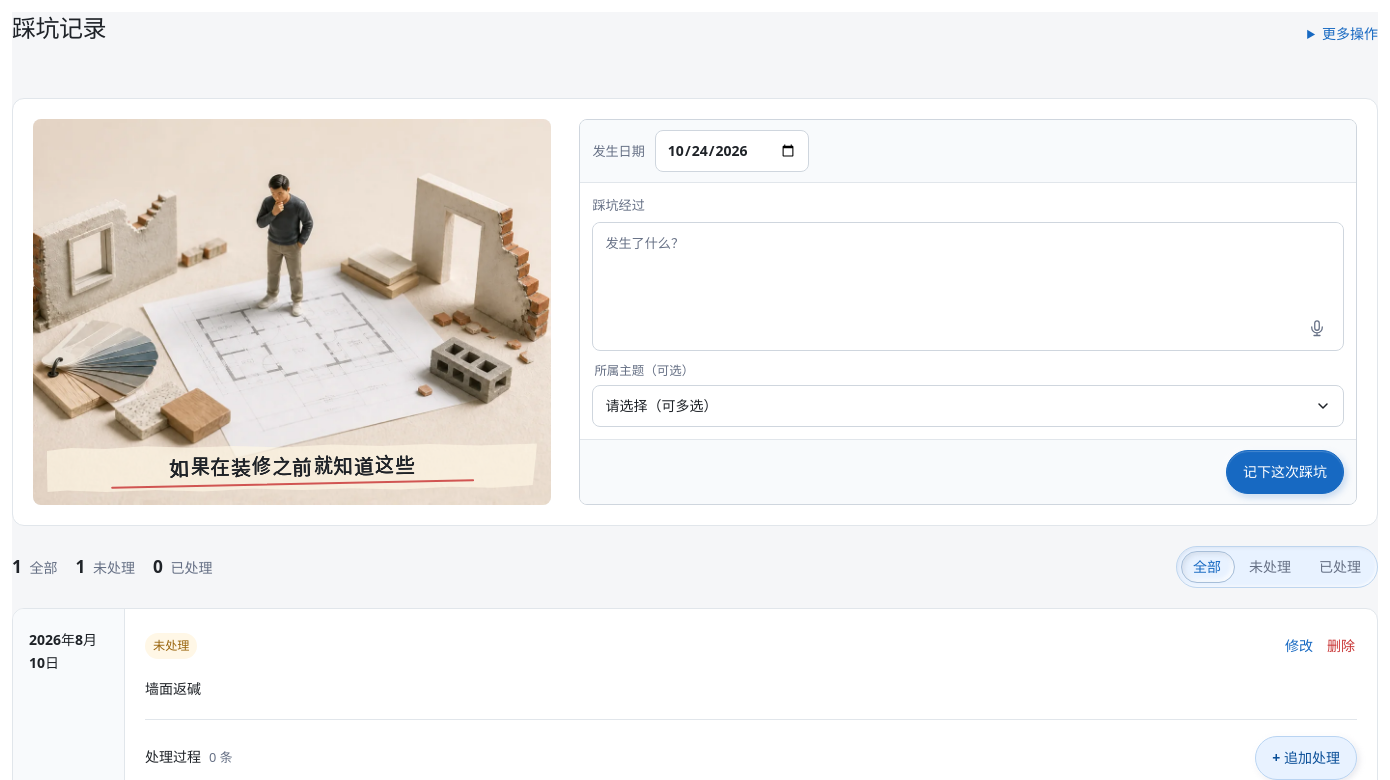
Scenario: PitfallsView › 将必填提示与提交按钮放在同一操作栏
The width and height of the screenshot is (1390, 780).
Expected: the text "墙面返碱" is shown, x1=145 y1=679 x2=201 y2=698
Step 1. Click the button "记下这次踩坑" → (1285, 472), box x1=1226 y1=450 x2=1344 y2=494
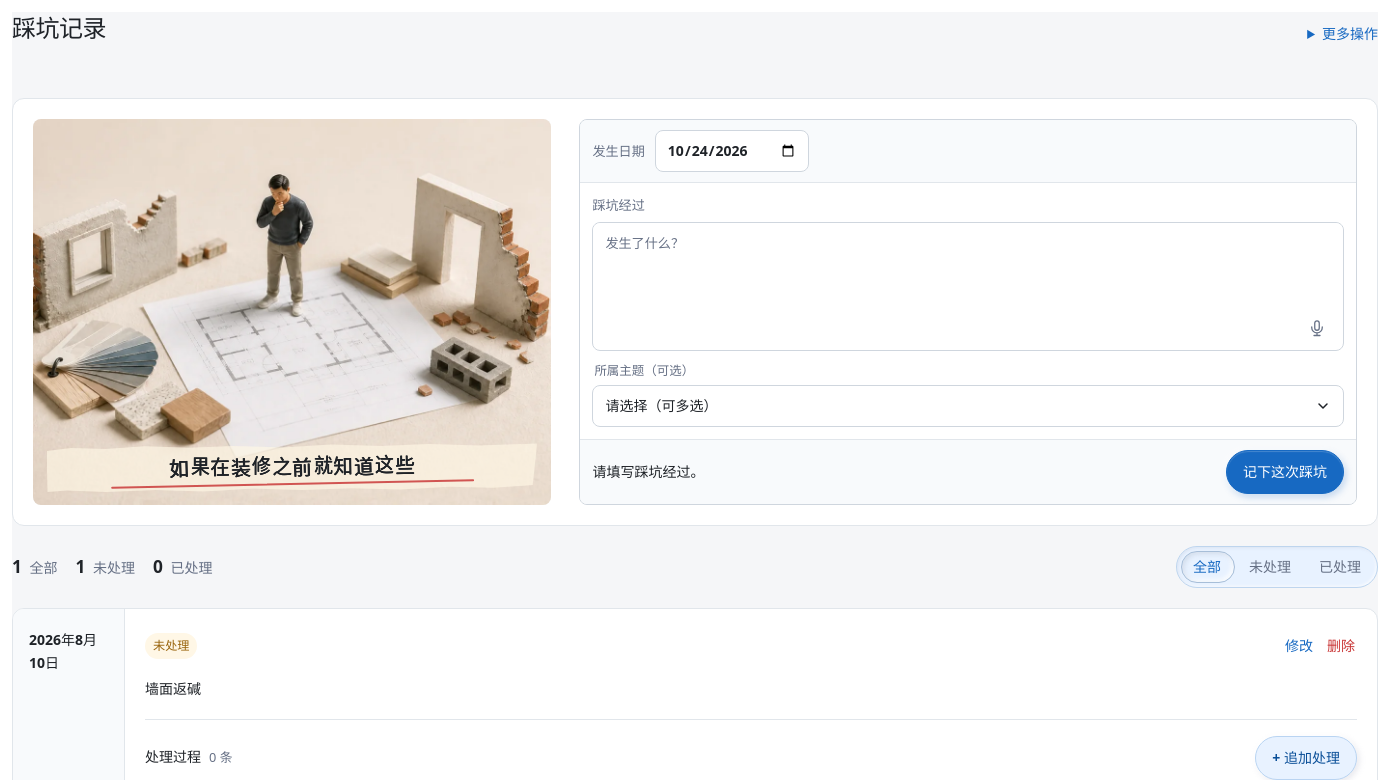
Result: the message reads "请填写踩坑经过。" at x1=592 y1=462 x2=704 y2=481
